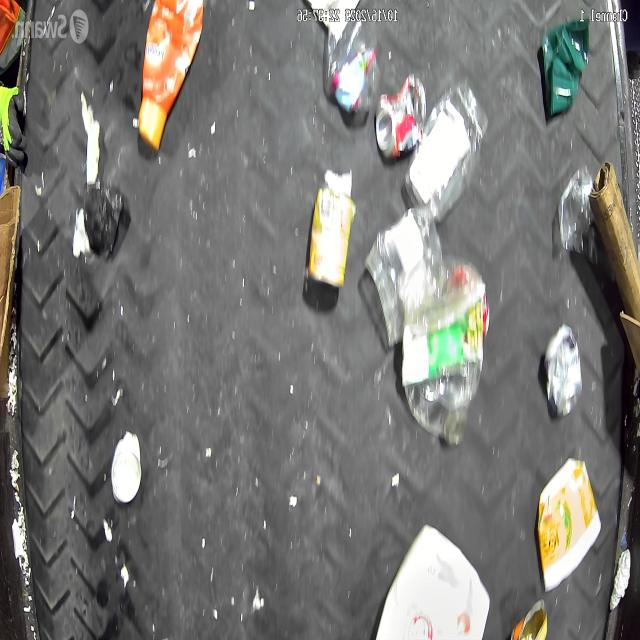can: (307, 184, 354, 290), (376, 71, 426, 163), (542, 322, 583, 420), (109, 431, 142, 506), (509, 599, 548, 640)
milk_jug: (373, 525, 489, 640)
non_white_jug: (139, 0, 203, 150)
plastic_bottle: (402, 253, 484, 443), (405, 78, 489, 222), (326, 8, 376, 114)
